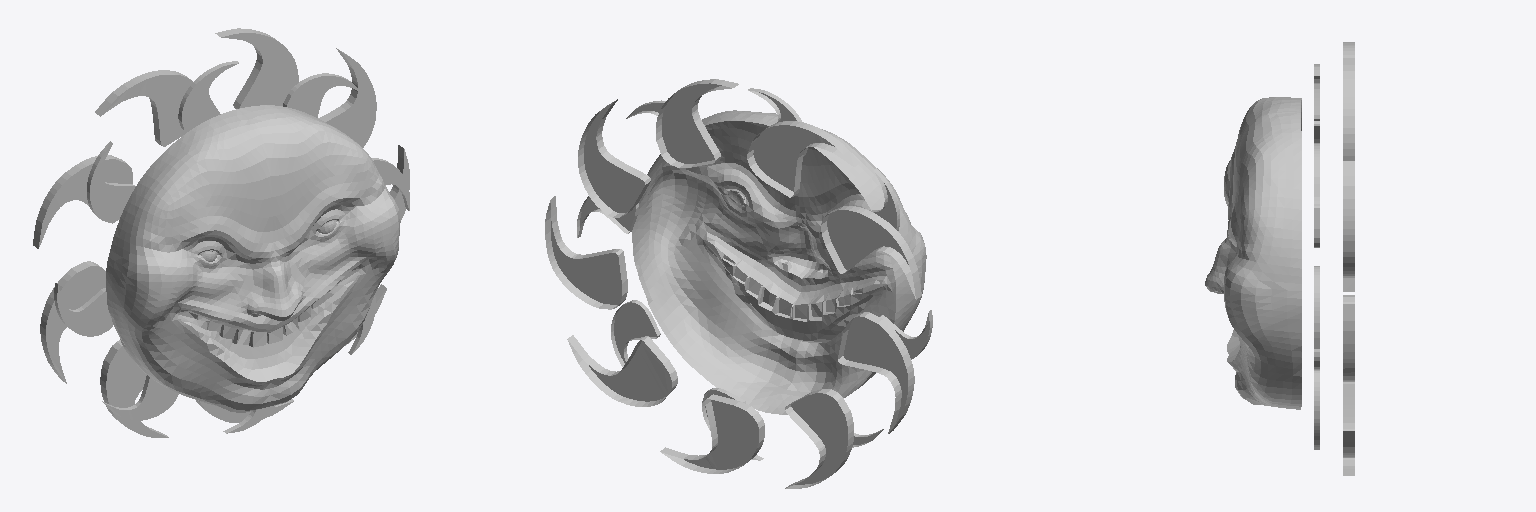
The model's file is sol.obj.
3 views of the same model, side by side, from view 1: azimuth 30°, elevation 25°; view 2: azimuth 150°, elevation 25°; view 3: azimuth 270°, elevation 25° (orthographic).
Visible parts, largest first — view 1: sol_low, alo2_low, alo01_low; view 2: sol_low, alo2_low, alo01_low; view 3: sol_low, alo2_low, alo01_low.
Boxes of the visible parts, box(x1,y1,x2,y2) form: sol_low: box(106, 105, 400, 412); alo2_low: box(33, 28, 409, 437); alo01_low: box(54, 61, 409, 433); sol_low: box(632, 110, 926, 414); alo2_low: box(545, 79, 921, 488); alo01_low: box(577, 88, 932, 460); sol_low: box(1205, 97, 1301, 409); alo2_low: box(1343, 42, 1354, 475); alo01_low: box(1314, 64, 1319, 449).
Size of the model in its own units: 7.99 by 8.06 by 2.81.